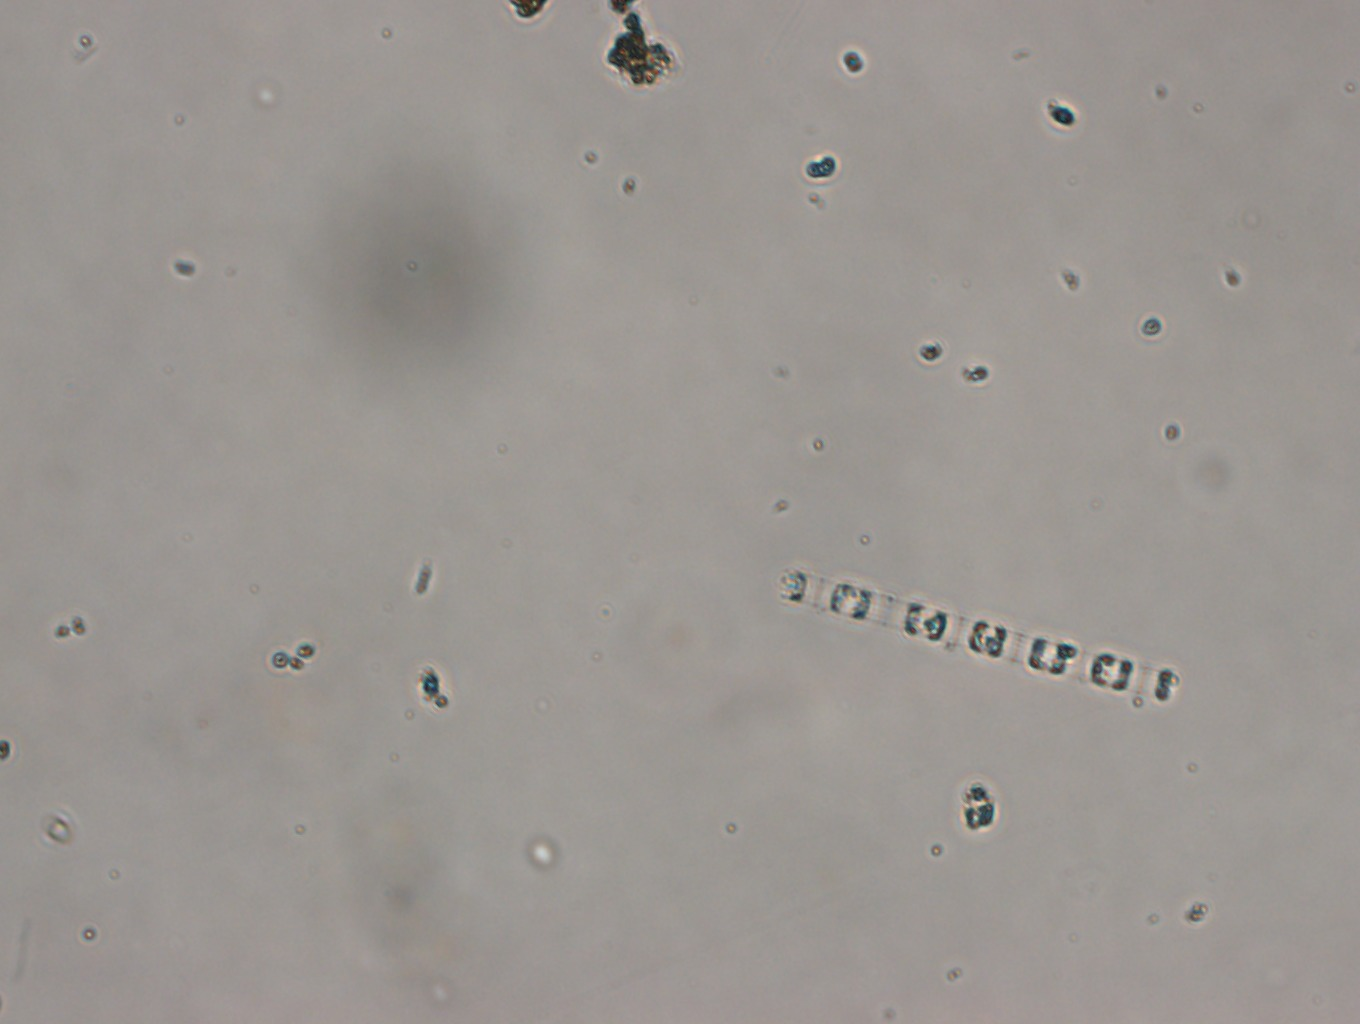skeletonema: (774, 557, 1185, 712)
